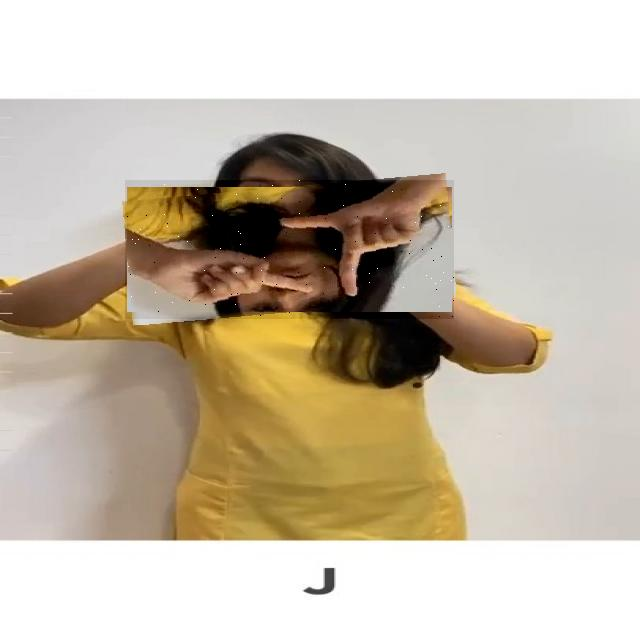J: (125, 180, 454, 319)
